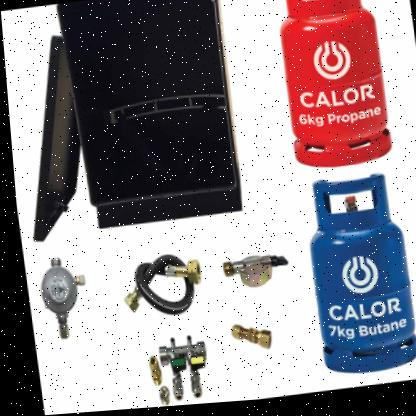gas-tank: (279, 167, 415, 386), (258, 0, 409, 185)
